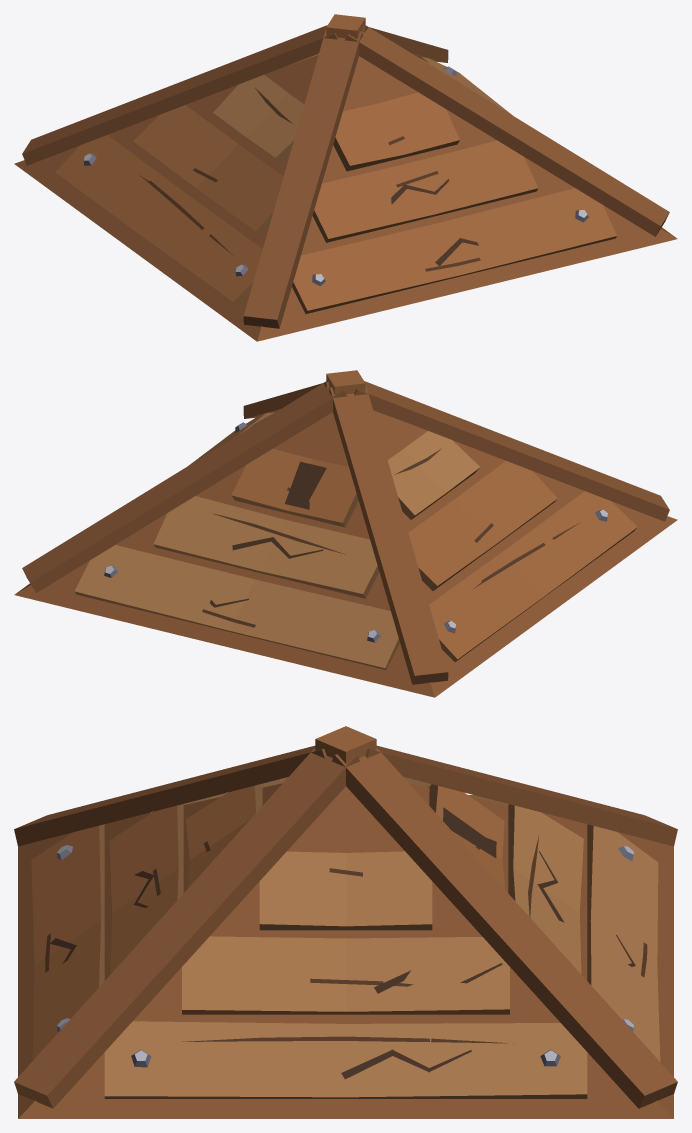
Rendered from cone_plank_crack2.glb.
The picture shows the model from 3 angles, top to bottom: view 1: azimuth 30°, elevation 25°; view 2: azimuth 150°, elevation 25°; view 3: azimuth 270°, elevation 25°; orthographic projection. The views are drawn at different scales.
Visible parts, largest first — view 1: Body; view 2: Body; view 3: Body.
Boxes of the visible parts, x1,y1,x2,y2 form: Body: (14,14,677,341); Body: (14,370,677,697); Body: (14,726,677,1118).
Bounding box in the file's own units: 3.99 × 1.6 × 3.99.
